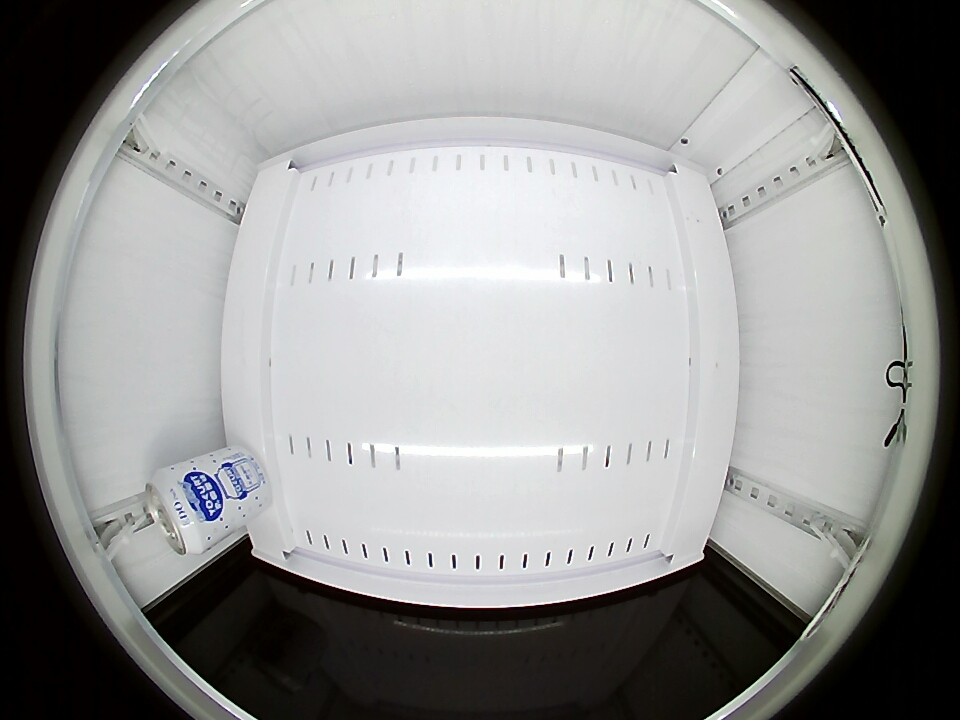rusuanjunqishui: (144, 465, 221, 556)
